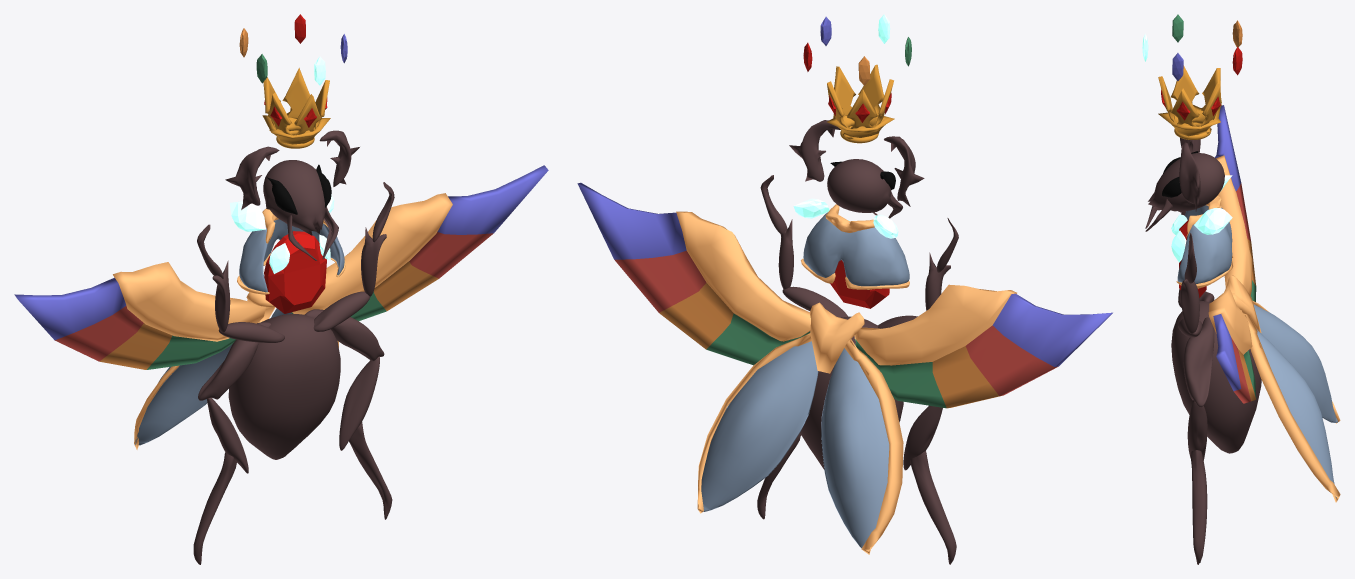
File: scarabqueen.fbx
3 views of the same model, side by side, from view 1: azimuth 30°, elevation 25°; view 2: azimuth 150°, elevation 25°; view 3: azimuth 270°, elevation 25° (orthographic). The views are drawn at different scales.
Parts seen in each view (by area): view 1: Cube.001, Sphere.001, Sphere.012, Cube, Torus, Sphere.004, Sphere, Sphere.005, Sphere.006, Cube.002, Sphere.008, Sphere.002 (+4 smaller); view 2: Cube.001, Sphere.012, Cube.002, Torus, Sphere, Sphere.006, Sphere.008, Cube.004, Sphere.001, Sphere.003, Sphere.005, Sphere.002 (+3 smaller); view 3: Sphere.012, Cube.001, Sphere.001, Torus, Cube.002, Sphere, Sphere.004, Sphere.006, Sphere.008, Sphere.003, Sphere.005, Icosphere.001 (+9 smaller).
Boxes of the visible parts, x1,y1,x2,y2 form: Cube.001: (14, 165, 548, 369); Sphere.001: (228, 314, 340, 459); Sphere.012: (134, 308, 338, 449); Cube: (264, 231, 326, 313); Torus: (262, 68, 330, 148); Sphere.004: (198, 309, 384, 400); Sphere: (263, 160, 326, 235); Sphere.005: (207, 356, 379, 473); Sphere.006: (193, 422, 392, 564); Cube.002: (239, 219, 344, 292); Sphere.008: (225, 130, 359, 209); Sphere.002: (218, 291, 370, 342); Cube.001: (577, 182, 1112, 408); Sphere.012: (697, 333, 903, 554); Cube.002: (803, 212, 909, 286); Torus: (827, 64, 894, 143); Sphere: (827, 159, 891, 212); Sphere.006: (757, 433, 956, 564); Sphere.008: (789, 120, 924, 206); Cube.004: (809, 302, 864, 373); Sphere.001: (800, 316, 903, 469); Sphere.003: (778, 219, 950, 310); Sphere.005: (800, 405, 942, 470); Sphere.002: (782, 286, 917, 328); Sphere.012: (1244, 300, 1340, 502); Cube.001: (1208, 105, 1256, 403); Sphere.001: (1171, 301, 1261, 453); Torus: (1158, 65, 1221, 139); Cube.002: (1177, 205, 1232, 283); Sphere: (1148, 153, 1224, 212); Sphere.004: (1183, 291, 1214, 407); Sphere.006: (1191, 437, 1207, 564); Sphere.008: (1179, 137, 1200, 211); Sphere.003: (1180, 211, 1199, 333); Sphere.005: (1187, 401, 1207, 458); Icosphere.001: (1194, 175, 1232, 234).
Size of the model in its own units: 7.1 by 6.47 by 2.38.
